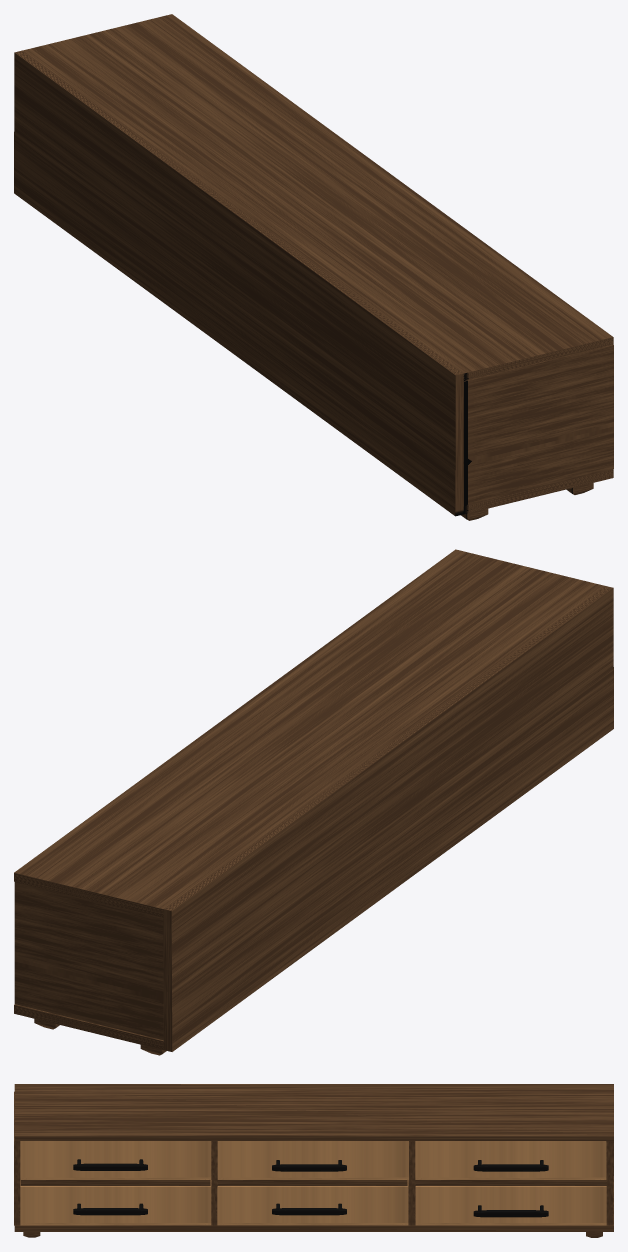
The model's file is complete_tv_stand.fbx.
3 renders of one model, top to bottom at view 1: azimuth 30°, elevation 25°; view 2: azimuth 150°, elevation 25°; view 3: azimuth 270°, elevation 25°, orthographic. The views are drawn at different scales.
Parts seen in each view (by area): view 1: Cube.039, Cube.062, Cube.064, Cube.061; view 2: Cube.039, Cube.062, Cube.063, Cube.061; view 3: Cube.062, Cube.075, Cube.074, Cube.073, Cube.065, Cube.066, Cube.067, Cube.061, Cube.039, Cube.068, Cube.071, Cube.070 (+10 smaller).
Part boxes in pixels (bbox=[...]): Cube.039: bbox=[14, 50, 464, 516]; Cube.062: bbox=[23, 14, 613, 380]; Cube.064: bbox=[463, 344, 613, 505]; Cube.061: bbox=[463, 469, 613, 514]; Cube.039: bbox=[163, 586, 613, 1051]; Cube.062: bbox=[14, 549, 604, 918]; Cube.063: bbox=[14, 882, 163, 1040]; Cube.061: bbox=[14, 1004, 163, 1049]; Cube.062: bbox=[14, 1087, 613, 1142]; Cube.075: bbox=[20, 1180, 211, 1225]; Cube.074: bbox=[217, 1180, 408, 1225]; Cube.073: bbox=[415, 1186, 606, 1225]; Cube.065: bbox=[415, 1141, 606, 1179]; Cube.066: bbox=[217, 1141, 408, 1179]; Cube.067: bbox=[20, 1141, 211, 1179]; Cube.061: bbox=[14, 1176, 613, 1231]; Cube.039: bbox=[14, 1084, 613, 1176]; Cube.068: bbox=[415, 1142, 606, 1185]; Cube.071: bbox=[20, 1180, 210, 1185]; Cube.070: bbox=[217, 1180, 407, 1185].
Size of the model in its own units: 502 by 415 by 2094.
Materials: 4 (4 with a texture image).
